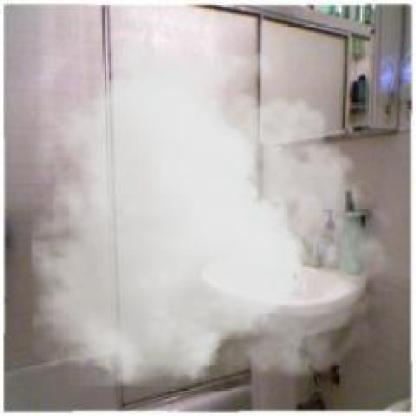Smoke: (32, 26, 400, 387)
